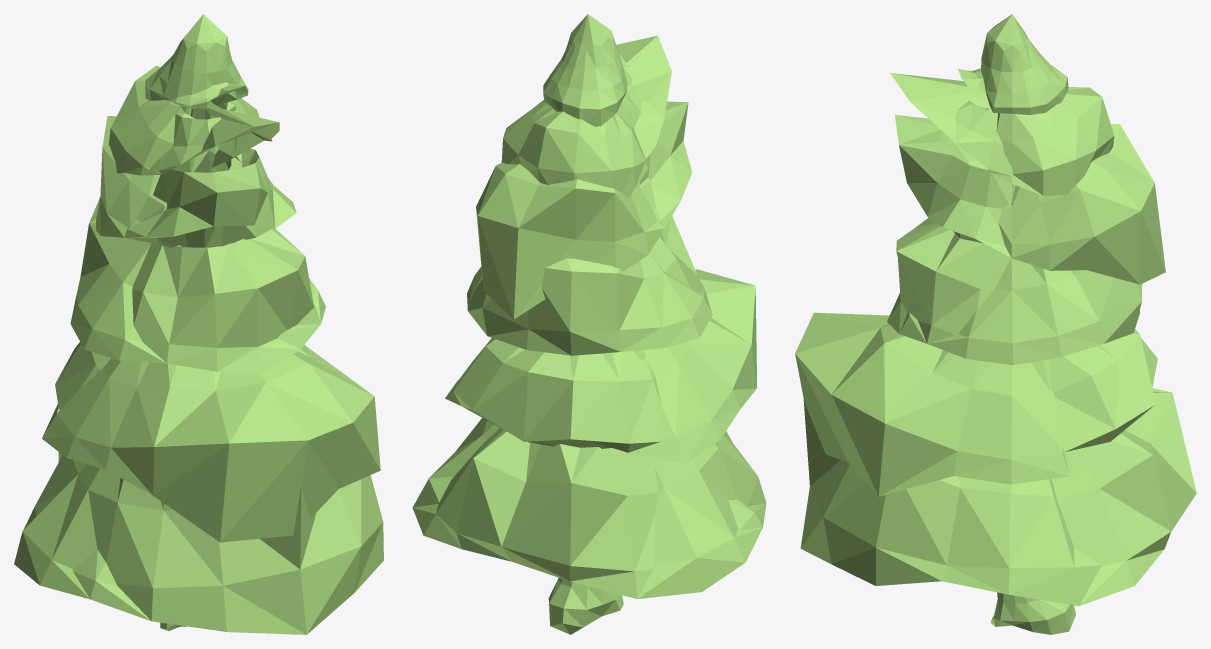
The model's file is tree1.0.glb.
3 views of the same model, side by side, from view 1: azimuth 30°, elevation 25°; view 2: azimuth 150°, elevation 25°; view 3: azimuth 270°, elevation 25° (orthographic). The views are drawn at different scales.
Visible parts, largest first — view 1: outFile; view 2: outFile; view 3: outFile.
Part boxes in pixels (bbox=[...]): outFile: bbox=[14, 14, 383, 634]; outFile: bbox=[412, 14, 766, 634]; outFile: bbox=[795, 14, 1196, 634].
Size of the model in its own units: 4.1 by 7.78 by 4.56.
